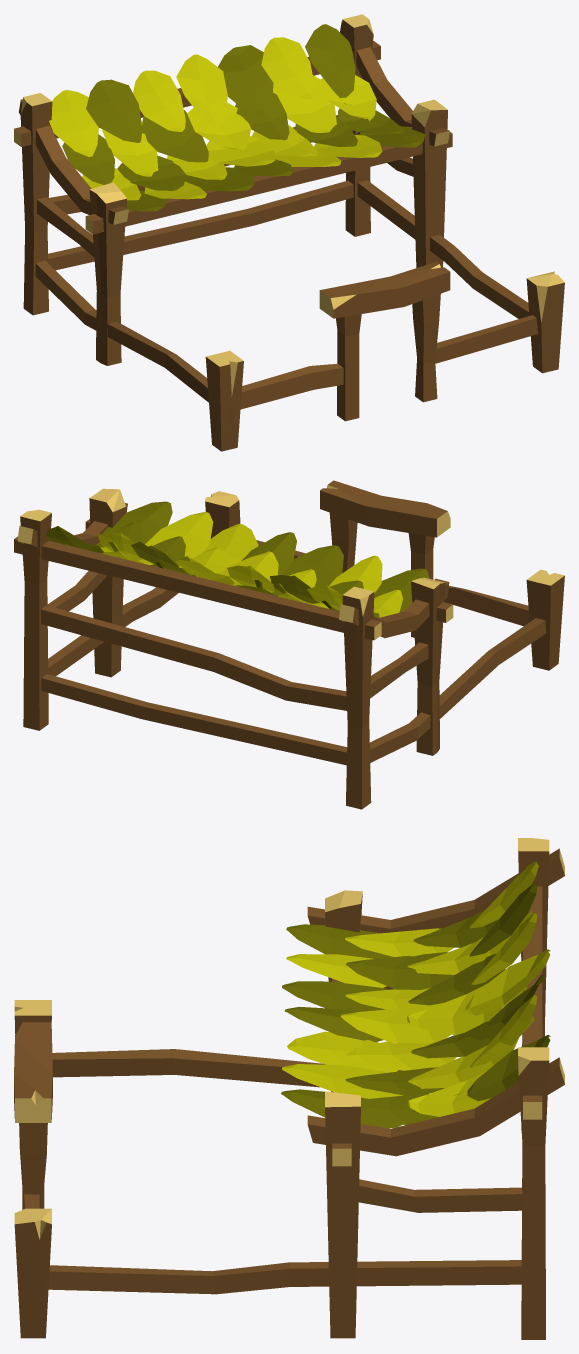
File: Test_PFA.fbx
The picture shows the model from 3 angles, top to bottom: view 1: azimuth 30°, elevation 25°; view 2: azimuth 150°, elevation 25°; view 3: azimuth 270°, elevation 25°; orthographic projection. The views are drawn at different scales.
Parts seen in each view (by area): view 1: Cube.109; view 2: Cube.109; view 3: Cube.109.
Boxes of the visible parts, <box> form: Cube.109: <box>14,14,564,451</box>; Cube.109: <box>14,480,564,809</box>; Cube.109: <box>14,838,564,1339</box>.
Size of the model in its own units: 1431 by 812 by 1424.
